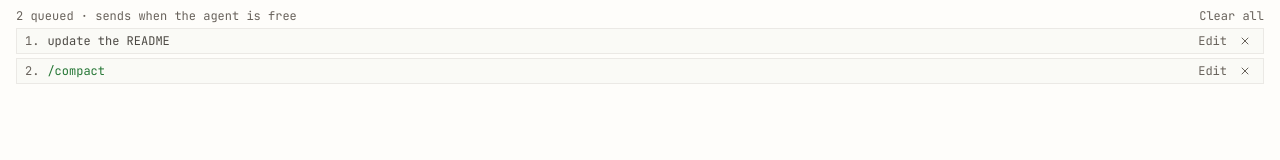
MessageQueue › remove button drops just that item
Click the button named "Remove queued message" in the row of "1." at x=1245, y=41, box x1=1235 y1=31 x2=1255 y2=51
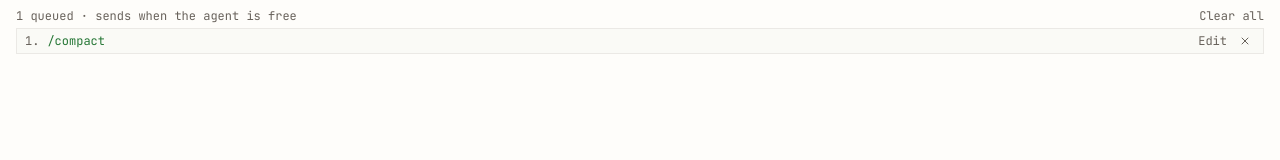
Result: the text "update the README" is gone
Result: the text "1 queued · sends when the agent is free" is shown at x1=16 y1=8 x2=297 y2=24
